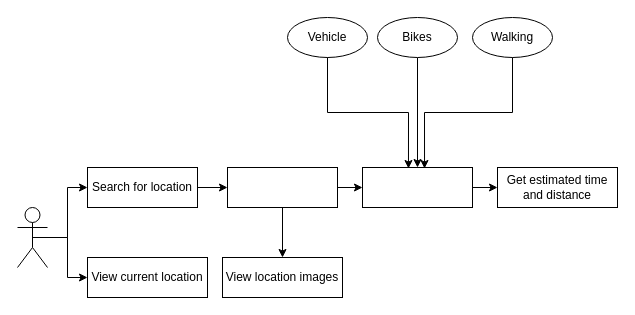
This 635x315 diagram has some shape labels left out. The centre of each missing label's shape, as x and y in pixels:
"Actor" goes at point 32,237.
"Get directions" goes at point 417,187.
"View location" goes at point 282,187.
